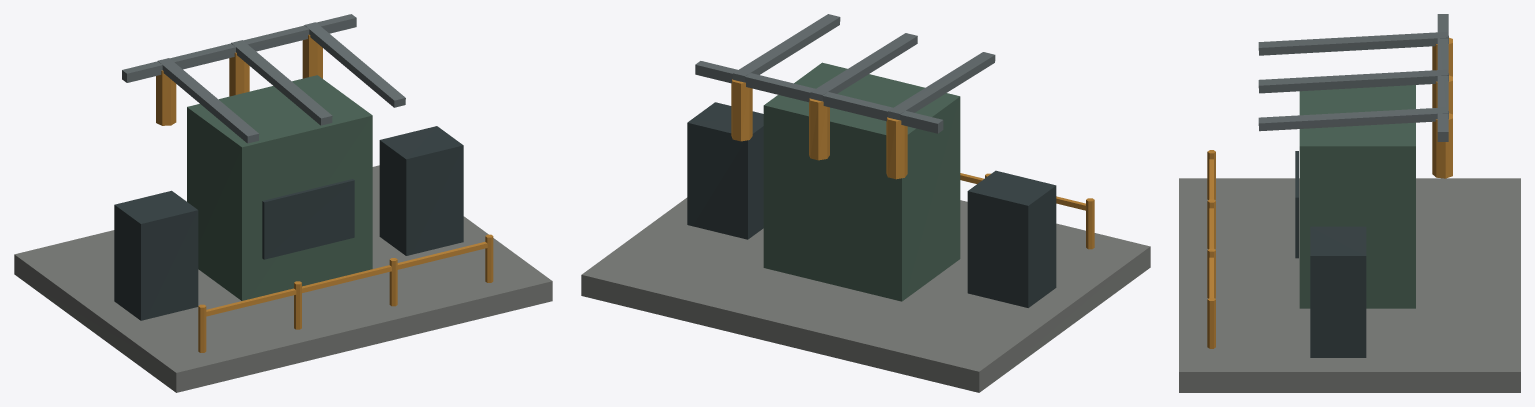
Rendered from Automated-Power-Station.glb.
3 views of the same model, side by side, from view 1: azimuth 30°, elevation 25°; view 2: azimuth 150°, elevation 25°; view 3: azimuth 270°, elevation 25° (orthographic). The views are drawn at different scales.
Parts seen in each view (by area): view 1: automated-power-station-static-station-concrete, automated-power-station-static-station-transformer-green, automated-power-station-static-station-switchgear-charcoal, automated-power-station-static-station-busbar-metal, automated-power-station-static-station-warning-yellow; view 2: automated-power-station-static-station-concrete, automated-power-station-static-station-transformer-green, automated-power-station-static-station-switchgear-charcoal, automated-power-station-static-station-busbar-metal, automated-power-station-static-station-warning-yellow; view 3: automated-power-station-static-station-concrete, automated-power-station-static-station-transformer-green, automated-power-station-static-station-busbar-metal, automated-power-station-static-station-switchgear-charcoal, automated-power-station-static-station-warning-yellow.
Boxes of the visible parts, x1,y1,x2,y2 form: automated-power-station-static-station-concrete: (14, 165, 552, 392); automated-power-station-static-station-transformer-green: (187, 75, 372, 300); automated-power-station-static-station-switchgear-charcoal: (114, 126, 463, 320); automated-power-station-static-station-busbar-metal: (122, 14, 405, 143); automated-power-station-static-station-warning-yellow: (156, 34, 493, 352); automated-power-station-static-station-concrete: (581, 197, 1150, 392); automated-power-station-static-station-transformer-green: (763, 62, 960, 301); automated-power-station-static-station-switchgear-charcoal: (687, 102, 1056, 307); automated-power-station-static-station-busbar-metal: (695, 14, 995, 133); automated-power-station-static-station-warning-yellow: (731, 79, 1094, 249); automated-power-station-static-station-concrete: (1179, 178, 1520, 392); automated-power-station-static-station-transformer-green: (1299, 85, 1415, 308); automated-power-station-static-station-busbar-metal: (1258, 14, 1448, 141); automated-power-station-static-station-switchgear-charcoal: (1295, 151, 1366, 357); automated-power-station-static-station-warning-yellow: (1207, 37, 1452, 348).
Bounding box in the file's own units: 5.9 × 3.18 × 4.4.
